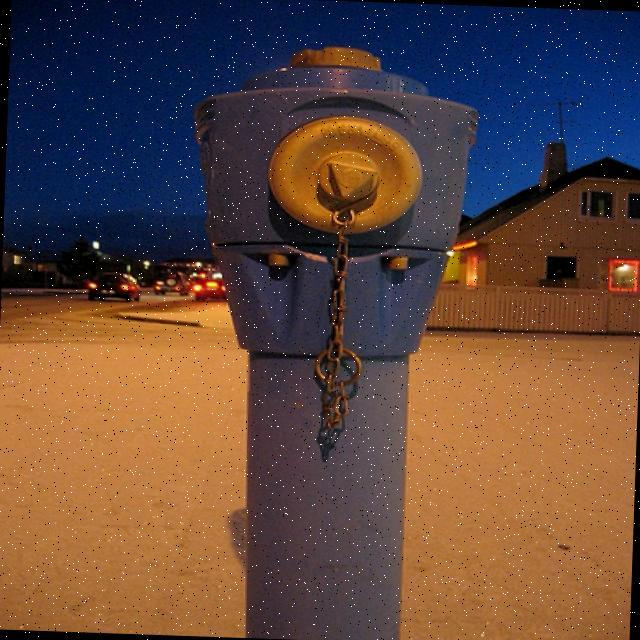fire_hydrant: (170, 40, 477, 640)
